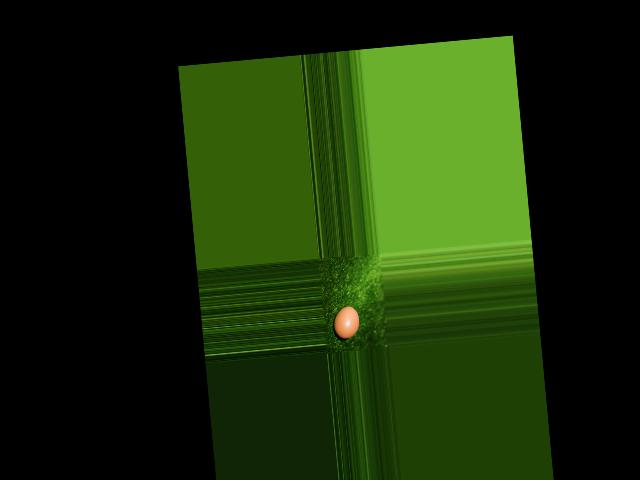egg: (331, 304, 360, 339)
